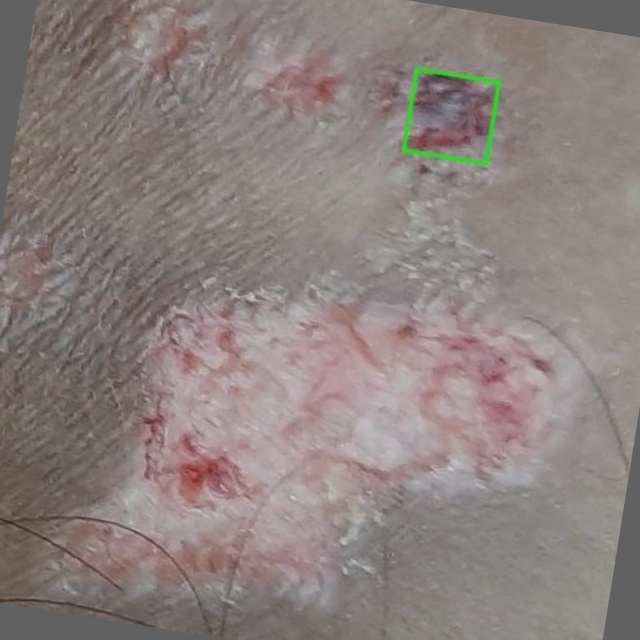Eczema: (403, 69, 499, 163)
